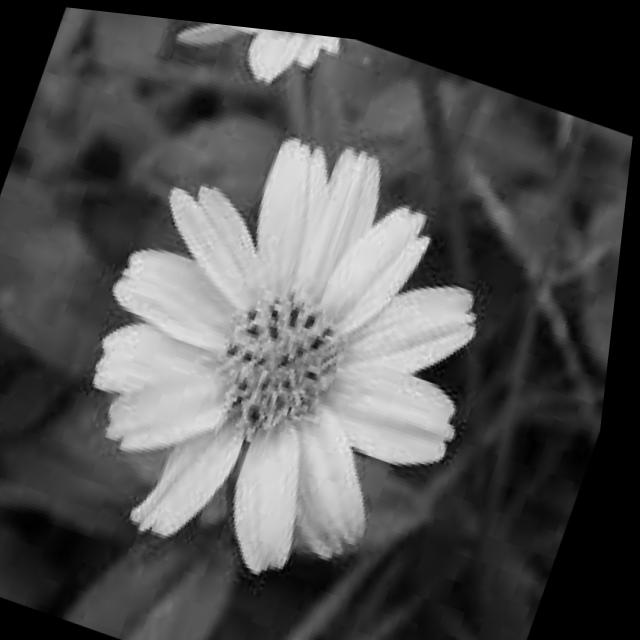Flower: (39, 65, 547, 600)
